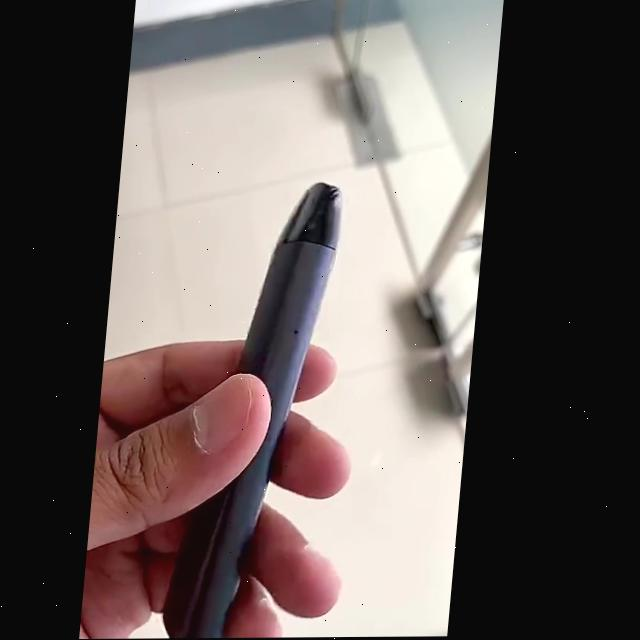vape: (170, 180, 348, 639)
